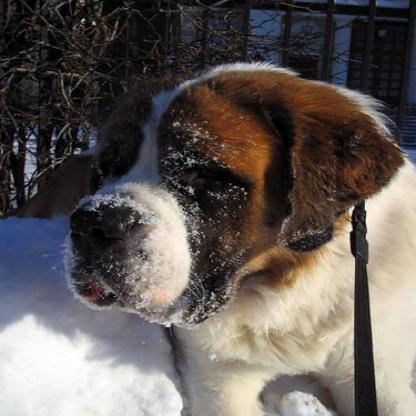Saint_Bernard: (52, 53, 411, 414)
